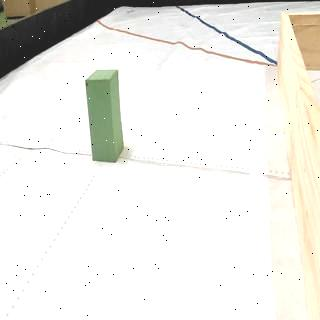greenbox: (86, 69, 125, 163)
